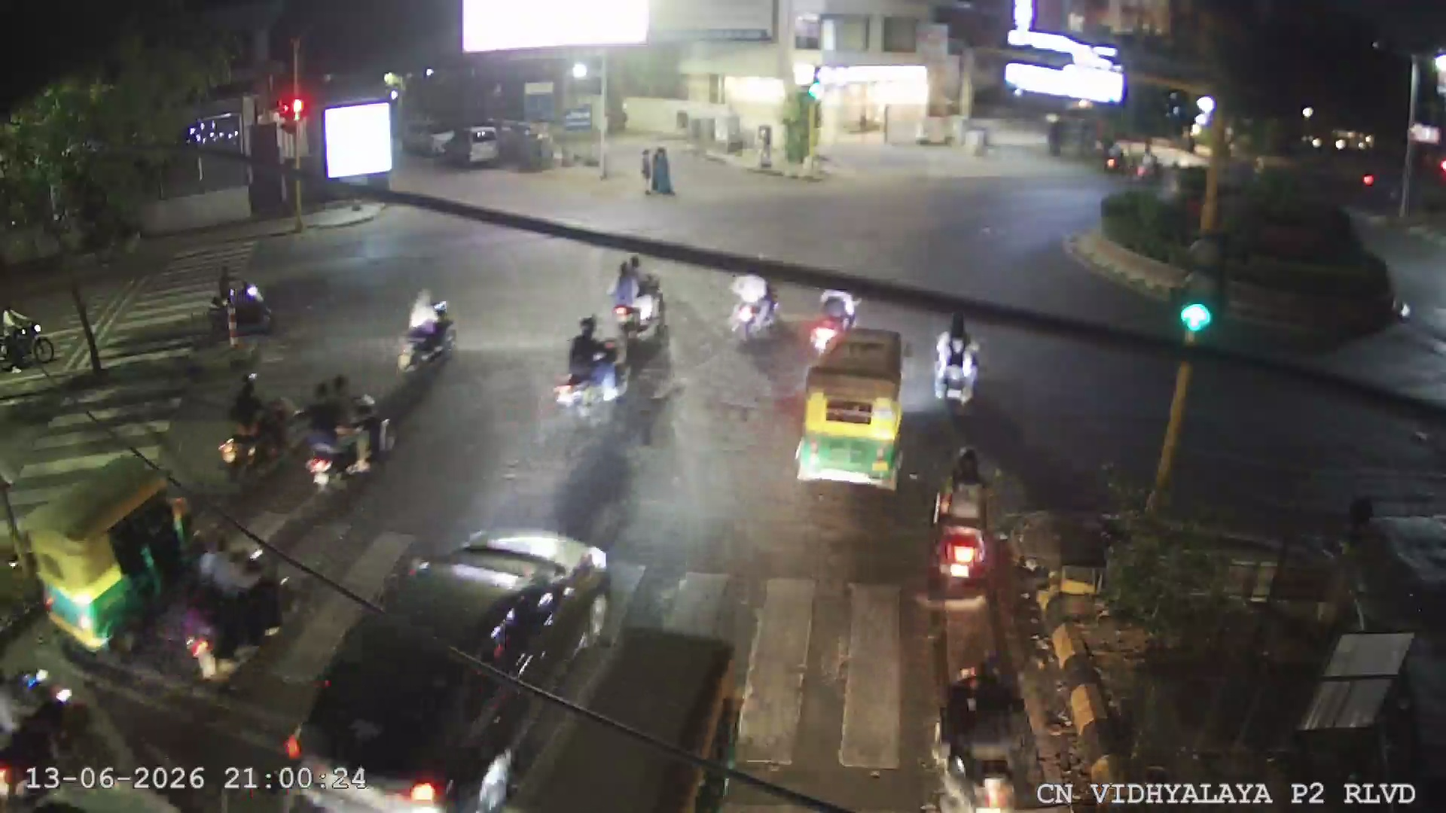auto_rickshaw: (277, 519, 657, 805), (6, 452, 272, 650), (2, 443, 201, 646), (795, 316, 909, 483)
car: (468, 122, 500, 164)
pedestrian: (635, 138, 682, 202)
two_wheeler: (0, 659, 145, 809), (176, 521, 299, 691), (0, 655, 100, 795), (294, 367, 395, 492), (213, 368, 297, 485), (549, 310, 632, 426), (390, 280, 462, 389), (602, 251, 674, 349), (203, 263, 280, 345), (929, 312, 988, 416), (724, 264, 786, 351), (634, 139, 682, 205)
